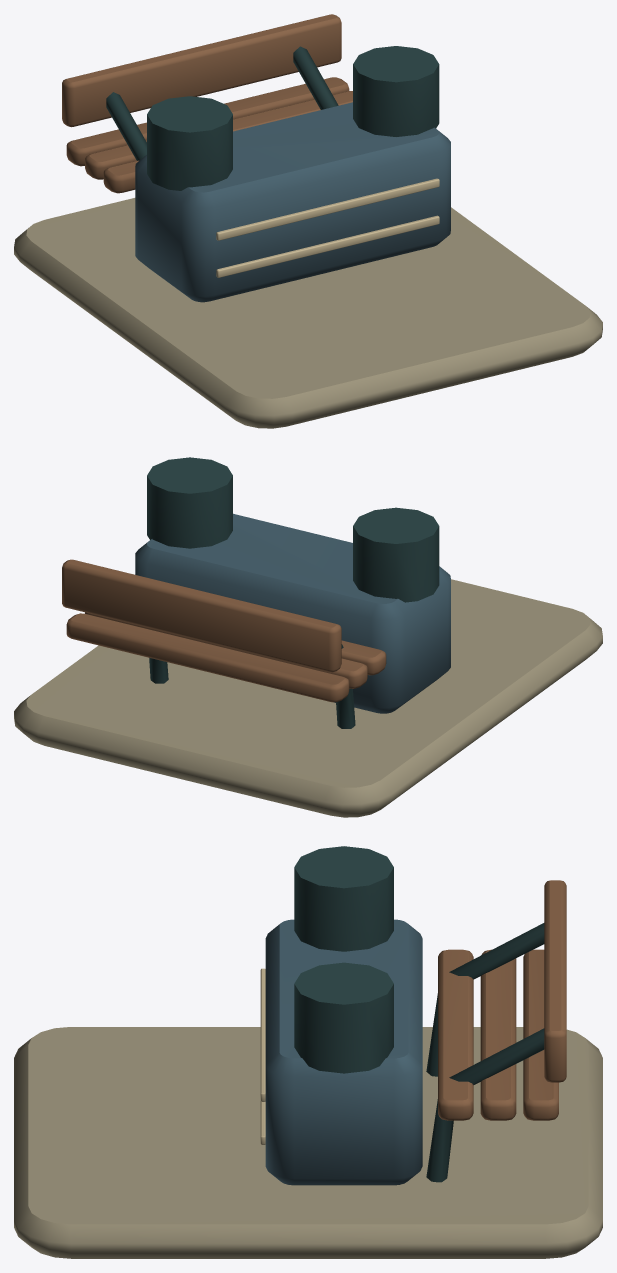
The model's file is annex_tires_2.glb.
3 views of the same model, one above another, from view 1: azimuth 30°, elevation 25°; view 2: azimuth 150°, elevation 25°; view 3: azimuth 270°, elevation 25° (orthographic). The views are drawn at different scales.
Parts seen in each view (by area): view 1: AnnexTires2; view 2: AnnexTires2; view 3: AnnexTires2.
Part boxes in pixels (x1,y1,x2,y2): AnnexTires2: (14, 14, 602, 428); AnnexTires2: (14, 457, 602, 817); AnnexTires2: (14, 846, 602, 1258).
Size of the model in its own units: 2.09 by 1.09 by 2.48.
